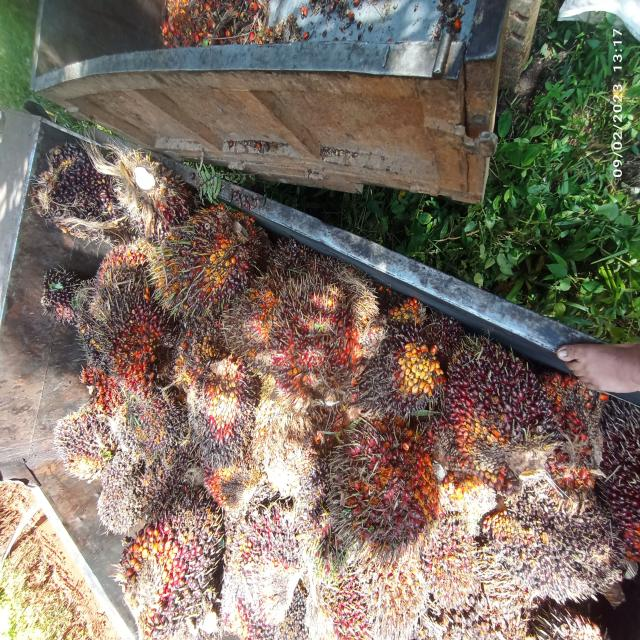fraksi 00: (175, 340, 268, 484), (24, 145, 125, 248), (361, 327, 450, 425), (32, 263, 81, 346)
fraksi 1: (439, 324, 567, 490), (71, 273, 181, 396), (174, 200, 255, 320)
fraksi 3: (324, 410, 447, 583), (264, 265, 364, 421), (524, 340, 615, 502)
fraksi 4: (72, 357, 131, 412)
